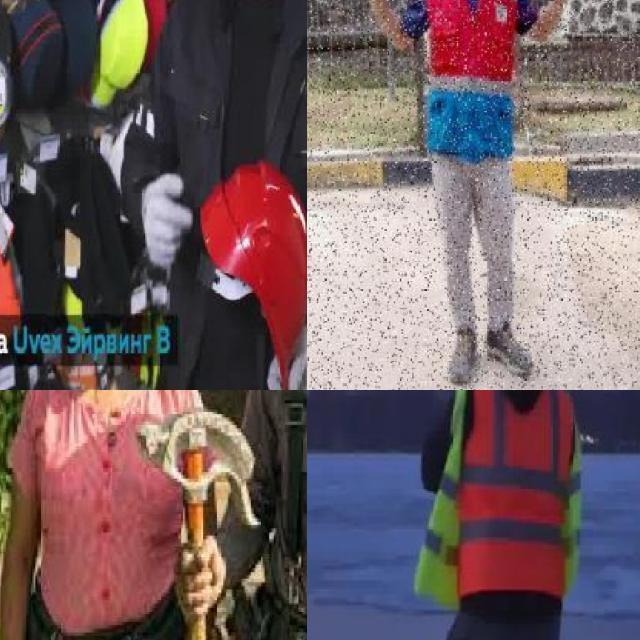apron: (140, 174, 193, 270), (265, 324, 307, 390)
